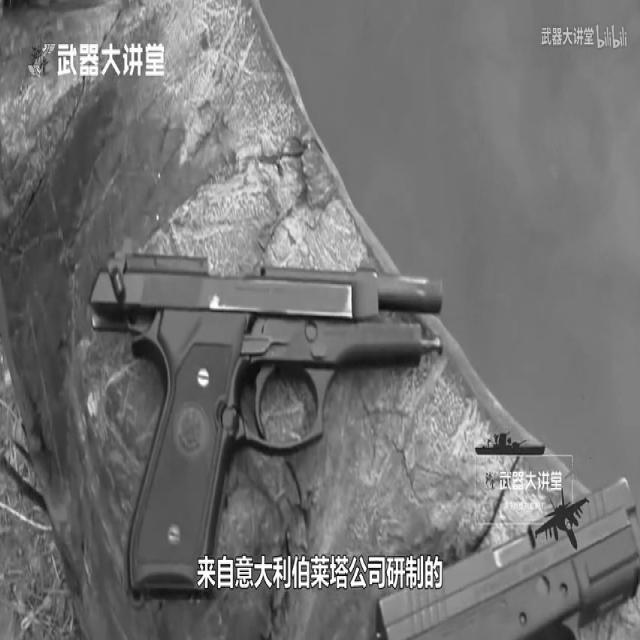Hand-Gun: (98, 254, 459, 586), (382, 459, 640, 640)
